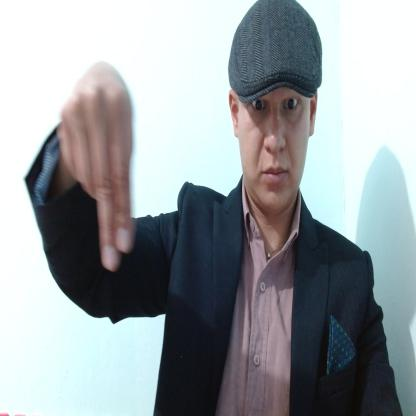N: (60, 62, 136, 269)
